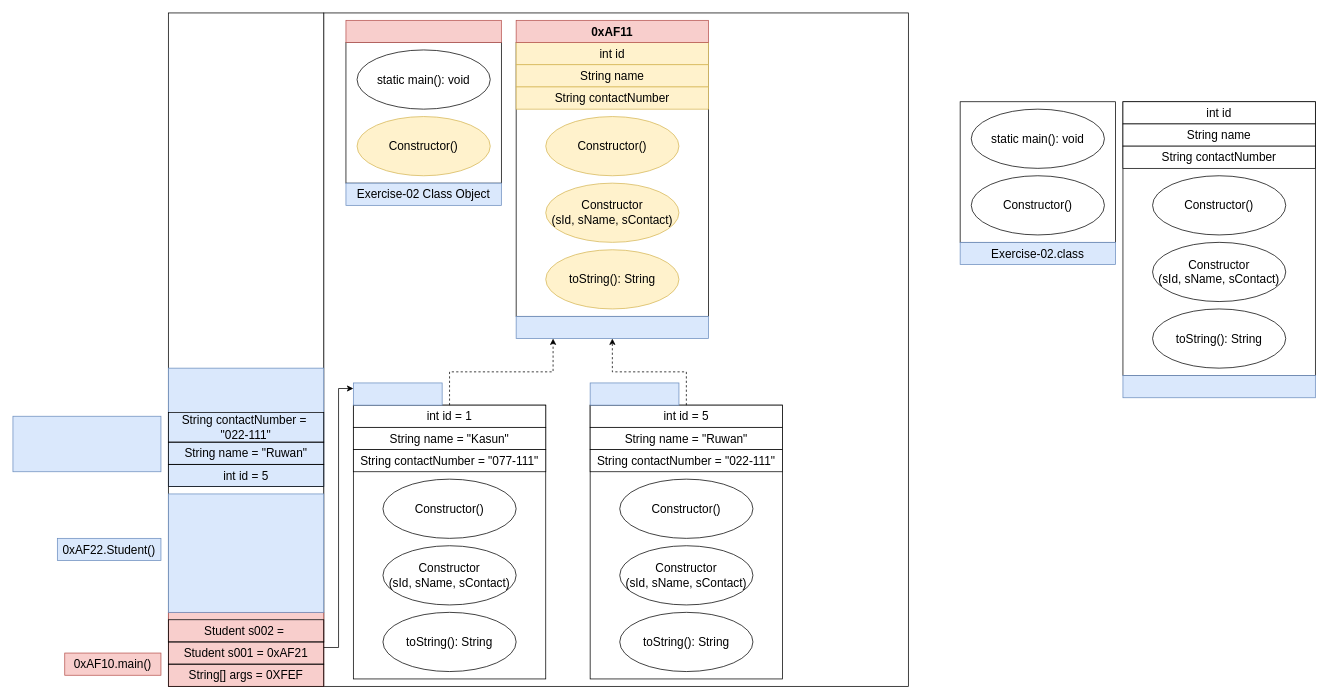
Image size: 1328x699. Some labels were removed from this diagram. The shapes that lost their labels are listed below. From the top down, each one's centre as x and y in pixels, then its label:
point 423,31: 0xAF10
point 612,327: Student Class Object
point 397,393: 0xAF21
point 634,393: 0xAF22
point 1218,386: Student.class
point 86,444: 0xAF22.Student (id, name, contactNumber)
